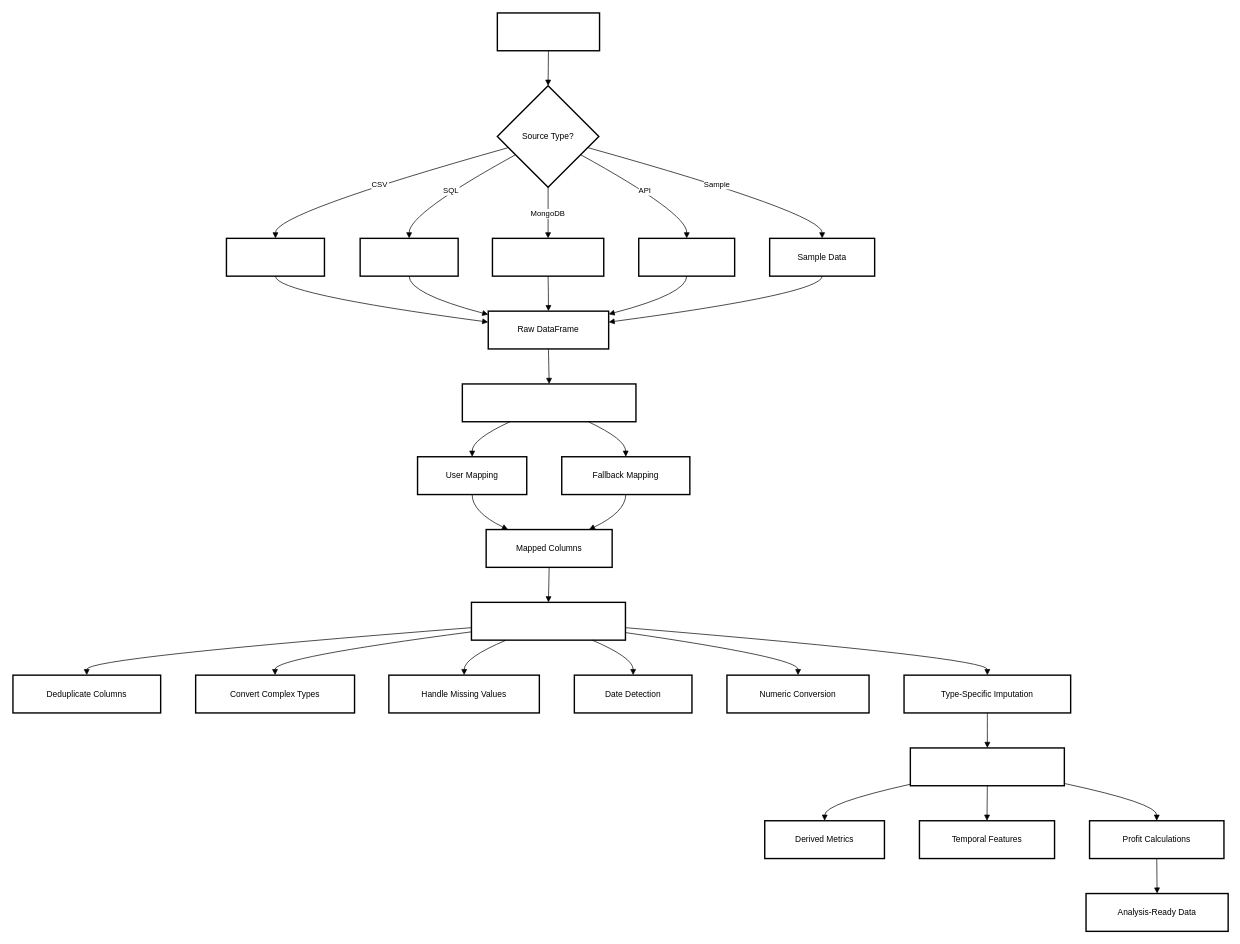
The diagram is 1240 pixels wide and 944 high, and some of its shapes have lost their labels. Each missing label, with the centre of its shape:
"API Loader" belongs at pixel 686 256.
"Auto-Profiling Pipeline" belongs at pixel 548 620.
"Column Mapping Interface" belongs at pixel 548 402.
"CSV Loader" belongs at pixel 275 256.
"Data Source" belongs at pixel 548 31.
"Mongo Loader" belongs at pixel 547 256.
"SQL Loader" belongs at pixel 408 256.
"Transformation Engine" belongs at pixel 987 766.
